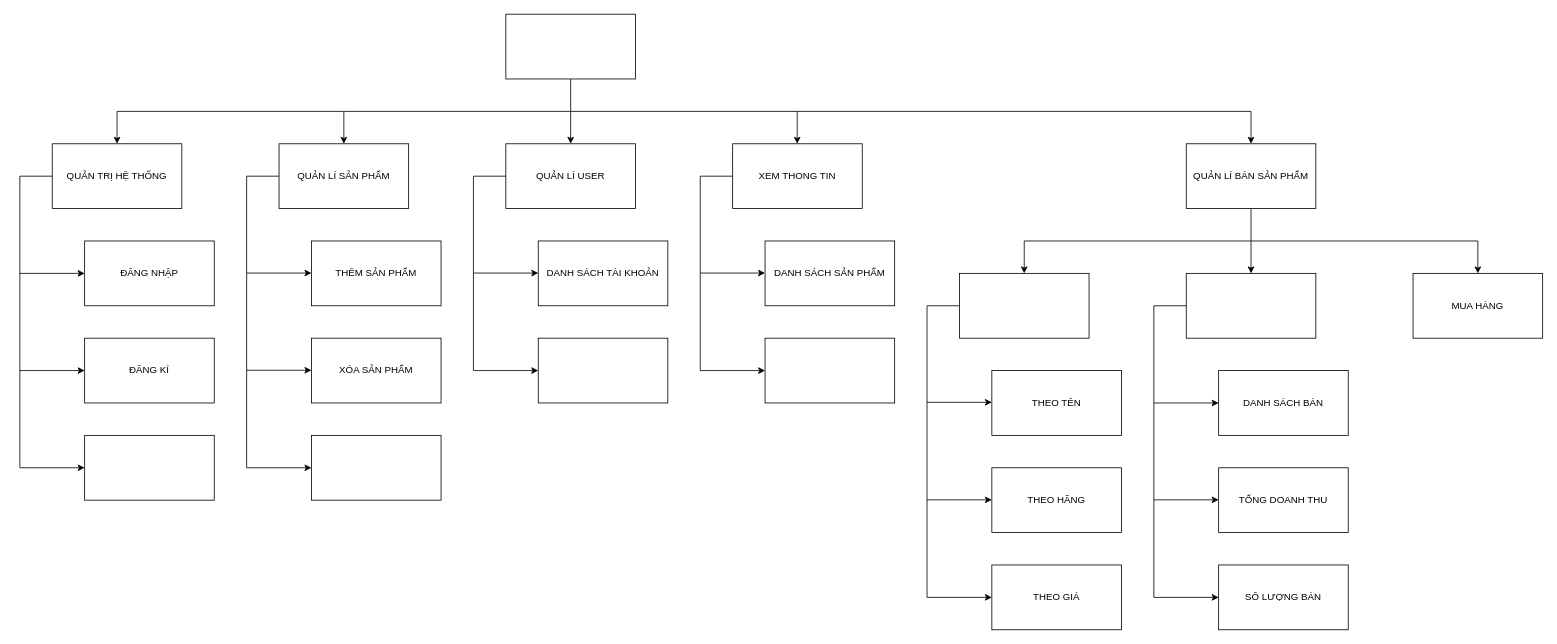
This 1557x644 diagram has some shape labels left out. Here are the shapes that lost their labels. From the top down, the box of each, then its label:
(505, 13, 635, 79): QUẢN LÍ CỬA HÀNG
(959, 273, 1089, 338): TÌM KIẾM
(1185, 273, 1316, 338): THÔNG KÊ
(537, 337, 668, 403): XÓA TÀI KHOẢN
(764, 337, 895, 403): CHI TIẾT SẢN PHẨM
(84, 435, 214, 500): ĐỔI MẬT KHẨU
(311, 435, 441, 500): CHỈNH SỬA SẢN PHẨM
